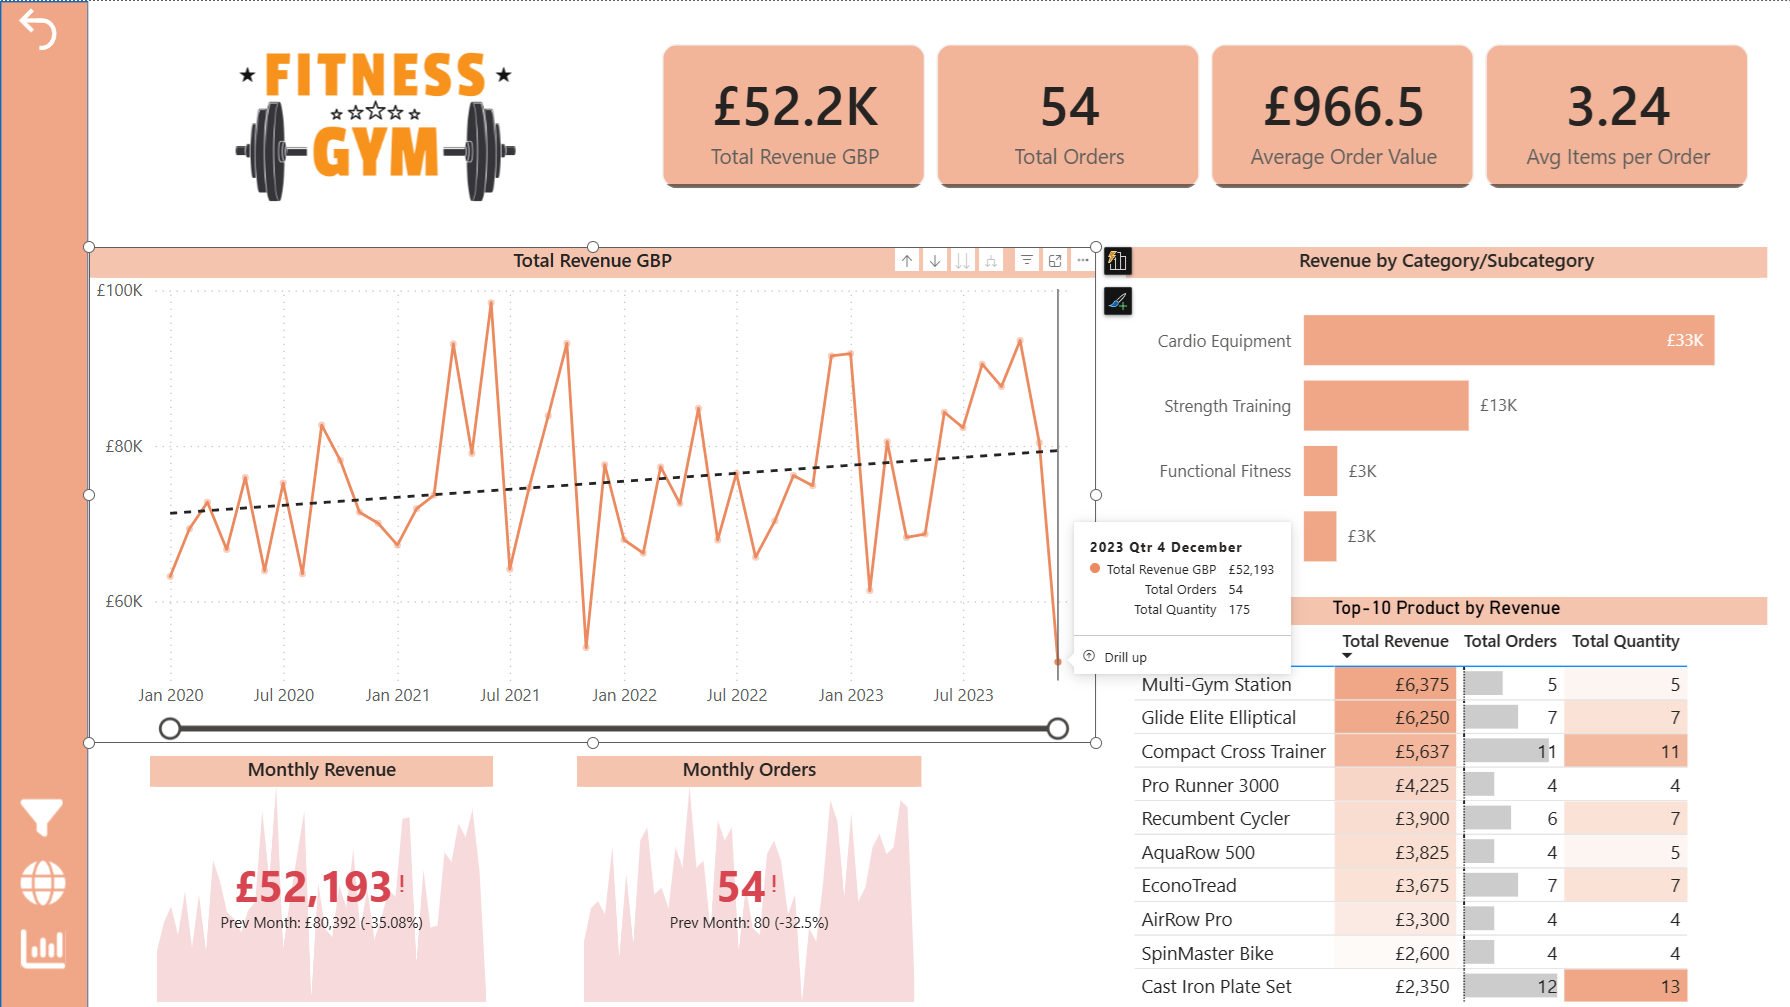

Layout of this report page (visuals, bound fields, positions):
{"tool":"powerbi","page":{"name":"Page 1","canvas":[1280,720],"ordinal":0},"visuals":[{"type":"cardVisual","fields":{"Data":["Table Measures.Total Revenue GBP","Table Measures.Total Orders","Table Measures.Average Order Value","Table Measures.Avg Items per Order"]},"box":[467.7,25.4,789.2,113.1],"z":0},{"type":"lineChart","fields":{"Category":["date.date.Variation.Date Hierarchy.Year","date.date.Variation.Date Hierarchy.Quarter","date.date.Variation.Date Hierarchy.Month"],"Y":["Table Measures.Total Revenue GBP"]},"box":[63.6,175.5,719.1,354.5],"z":1000},{"type":"barChart","title":"Revenue by Category/Subcategory","fields":{"Category":["products.category_name Hierarchy.category_name","products.category_name Hierarchy.subcategory_name","date.date"],"Y":["Table Measures.Total Revenue GBP"]},"box":[804.6,175.6,457.8,249.8],"z":2000},{"type":"kpi","title":"Monthly Revenue","fields":{"Goal":["Table Measures.Previous Month Revenue"],"Indicator":["Table Measures.Total Revenue GBP"],"TrendLine":["date.Start of Month"]},"box":[107.3,539.3,245.4,180.8],"z":3000},{"type":"kpi","title":"Monthly Orders","fields":{"Goal":["Table Measures.Previous Month Orders"],"Indicator":["Table Measures.Total Orders"],"TrendLine":["date.Start of Month"]},"box":[412.2,539.3,246.2,180.8],"z":4000},{"type":"tableEx","title":"Top-10 Product by Revenue","fields":{"Values":["products.product_name","Table Measures.Total Revenue GBP","Table Measures.Total Orders","Table Measures.Total Quantity"]},"box":[804.6,425.4,457.8,294.6],"z":5000},{"type":"image","box":[94.6,0,347.7,175.4],"z":6000},{"type":"shape","box":[0,0,63.5,720.1],"z":7000},{"type":"actionButton","box":[7.3,0,100,40],"z":8000},{"type":"actionButton","title":"Open sel","box":[10.8,564.6,40.8,38.5],"z":9000},{"type":"actionButton","box":[10.8,610,40.8,40],"z":11000},{"type":"actionButton","box":[10.8,656.9,40.8,40],"z":12000}]}

Visuals, with their boxes on the page's 1280x720 design canvas (x1, y1, x2, y2). These are canvas units, not pixel positions in the 1790x1007 screenshot, which may show the page scaled, cropped or inside an application window:
cardVisual - Table Measures.Total Revenue GBP x Table Measures.Total Orders: (x1=468, y1=25, x2=1257, y2=138)
lineChart - date.date.Variation.Date Hierarchy.Year x date.date.Variation.Date Hierarchy.Quarter: (x1=64, y1=176, x2=783, y2=530)
"Revenue by Category/Subcategory" barChart: (x1=805, y1=176, x2=1262, y2=425)
"Monthly Revenue" kpi: (x1=107, y1=539, x2=353, y2=720)
"Monthly Orders" kpi: (x1=412, y1=539, x2=658, y2=720)
"Top-10 Product by Revenue" tableEx: (x1=805, y1=425, x2=1262, y2=720)
image: (x1=95, y1=0, x2=442, y2=175)
shape: (x1=0, y1=0, x2=64, y2=720)
actionButton: (x1=7, y1=0, x2=107, y2=40)
"Open sel" actionButton: (x1=11, y1=565, x2=52, y2=603)
actionButton: (x1=11, y1=610, x2=52, y2=650)
actionButton: (x1=11, y1=657, x2=52, y2=697)
